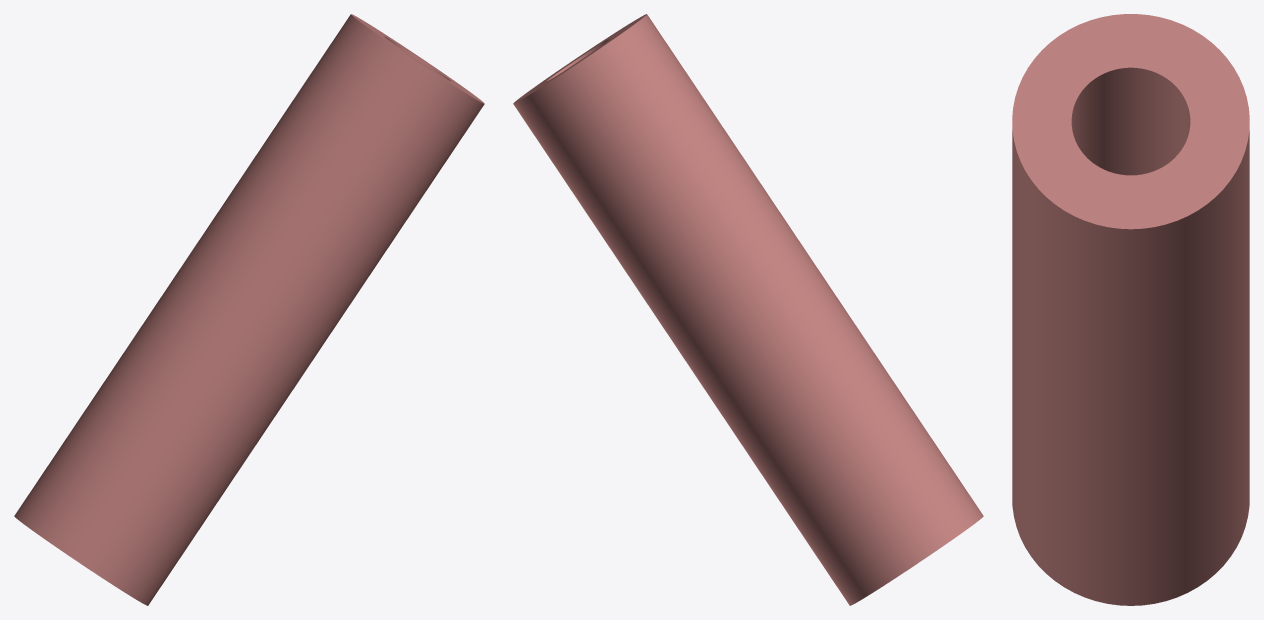
Rendered from step_17.glb.
3 views of the same model, side by side, from view 1: azimuth 30°, elevation 25°; view 2: azimuth 150°, elevation 25°; view 3: azimuth 270°, elevation 25° (orthographic). The views are drawn at different scales.
Visible parts, largest first — view 1: part__handle grip; view 2: part__handle grip; view 3: part__handle grip.
Boxes of the visible parts, x1,y1,x2,y2 form: part__handle grip: [14, 14, 484, 605]; part__handle grip: [513, 14, 983, 605]; part__handle grip: [1012, 14, 1249, 605].
Size of the model in its own units: 63.52 by 70.3 by 19.99.
